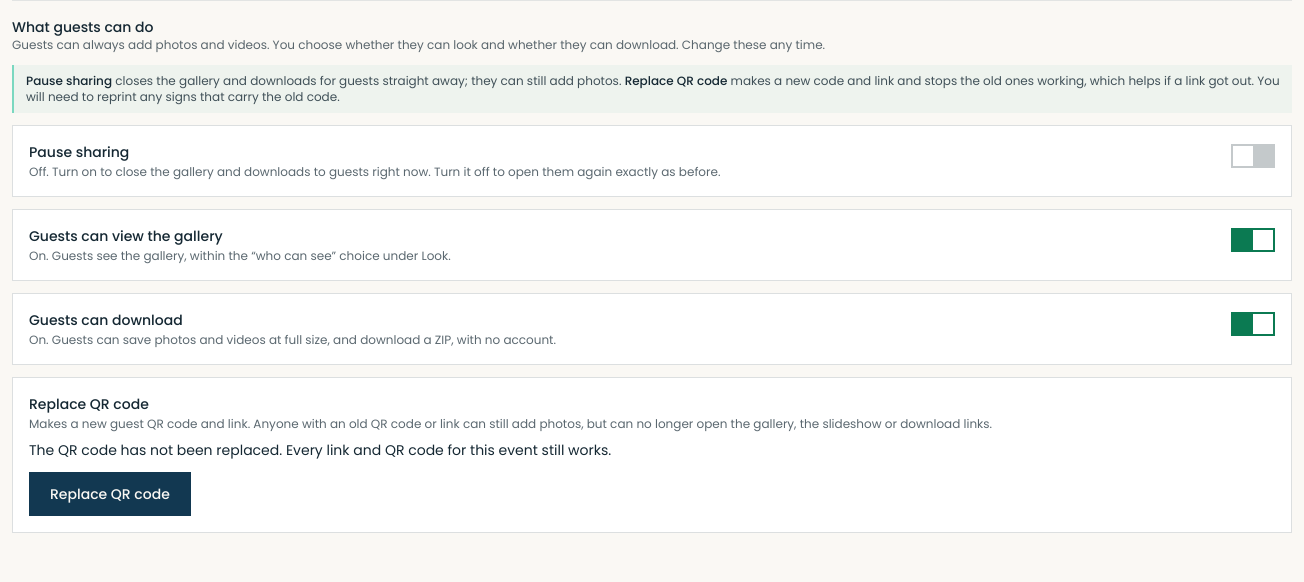
it: GalleryAccessSettings › pauses sharing at once and says guests can still add photos
Click the switch labelled "Pause sharing". click: (652,161)
box: [12,125,1292,197]
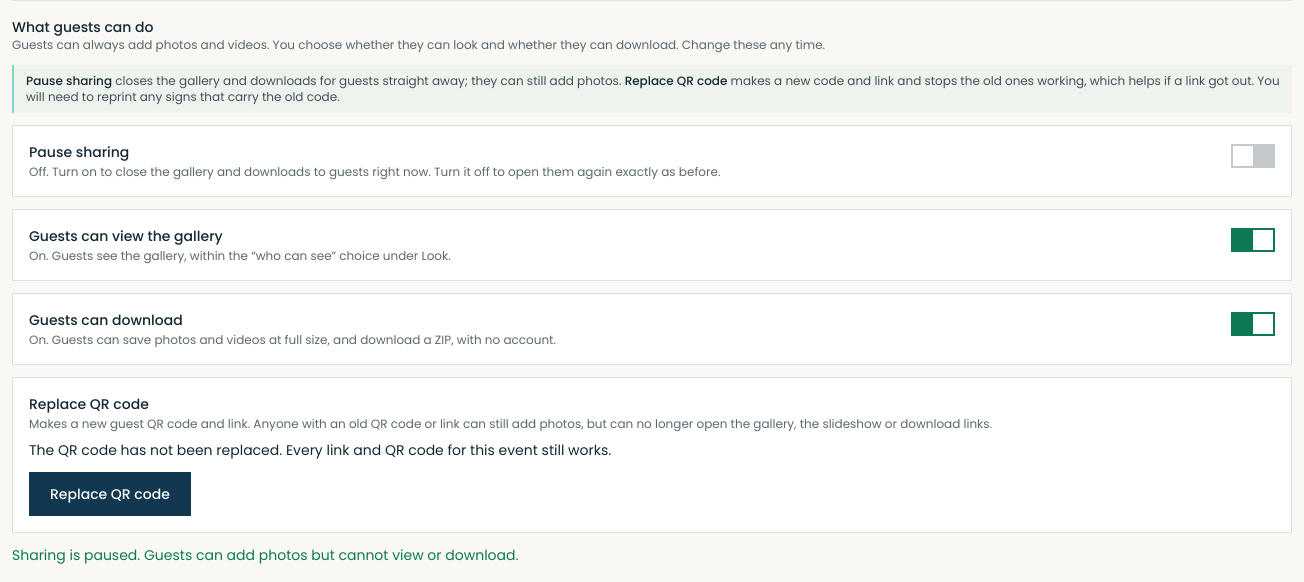
Result: the text "Sharing is paused. Guests can add photos but cannot view or download." is shown at [12,545,518,565]
